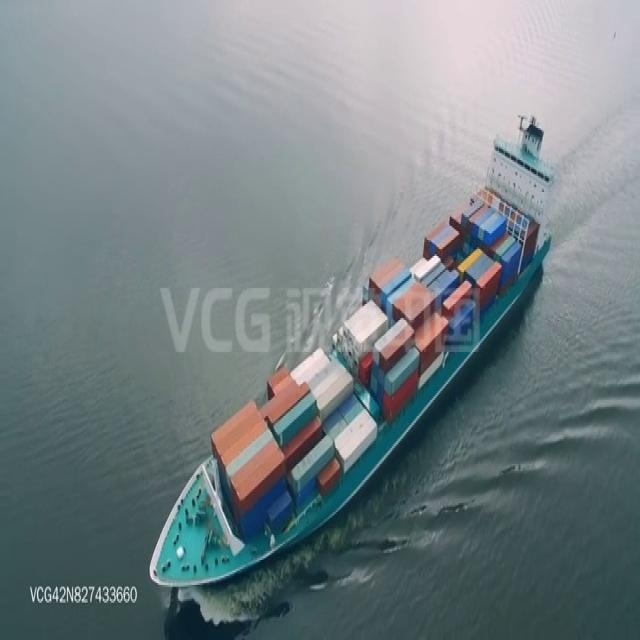cargoship: (147, 105, 552, 596)
